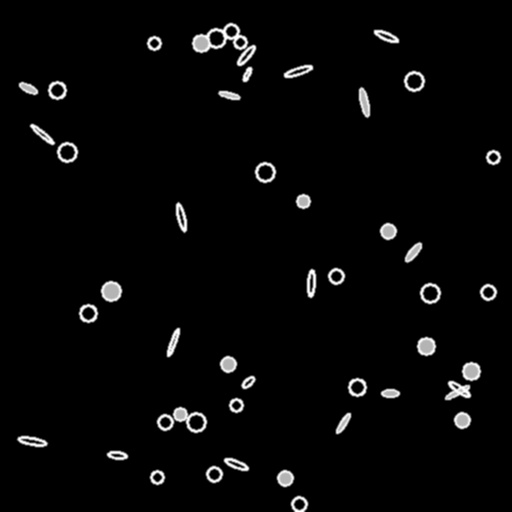pseudomonas: (30, 123, 54, 145), (447, 379, 471, 399), (236, 44, 256, 66), (283, 64, 313, 78), (444, 384, 470, 400), (373, 28, 399, 44), (357, 88, 371, 116), (166, 328, 180, 356), (224, 456, 248, 472), (17, 435, 47, 447), (404, 242, 422, 262), (335, 412, 351, 434), (175, 203, 187, 231), (18, 81, 38, 95), (240, 374, 256, 390), (307, 269, 315, 297), (218, 90, 240, 100), (241, 66, 253, 82), (107, 451, 127, 459), (382, 389, 399, 396)
synechocystis: (207, 29, 225, 47), (405, 72, 423, 90), (102, 282, 120, 300), (421, 284, 439, 302), (187, 413, 205, 431), (58, 143, 76, 161), (256, 163, 274, 181), (80, 305, 96, 321), (49, 82, 65, 98), (418, 338, 434, 354), (193, 35, 209, 51), (463, 363, 479, 379), (349, 379, 365, 395), (207, 467, 221, 481), (455, 413, 469, 427), (221, 357, 235, 371), (224, 24, 238, 38), (381, 224, 395, 238), (481, 285, 495, 299), (329, 269, 343, 283), (292, 497, 306, 511), (158, 415, 172, 429), (278, 471, 292, 485), (174, 408, 186, 420), (297, 195, 309, 207), (151, 471, 163, 483), (148, 37, 160, 49), (234, 36, 246, 48), (487, 151, 499, 163), (230, 399, 242, 411)
